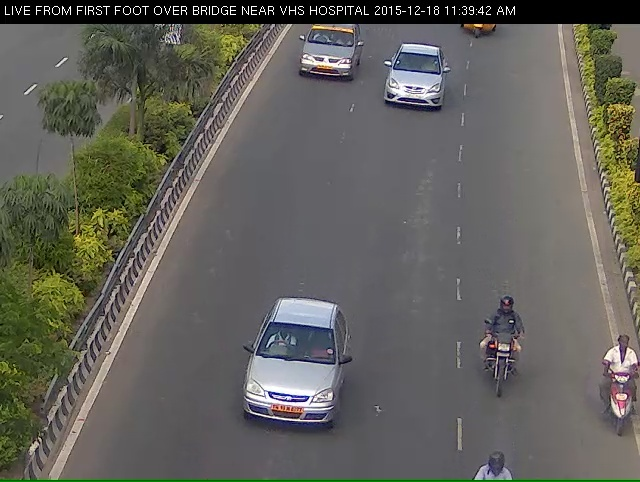Auto: (457, 22, 505, 47)
Car: (231, 332, 333, 466), (380, 56, 452, 132), (295, 26, 357, 93)
Person: (484, 286, 527, 429)
